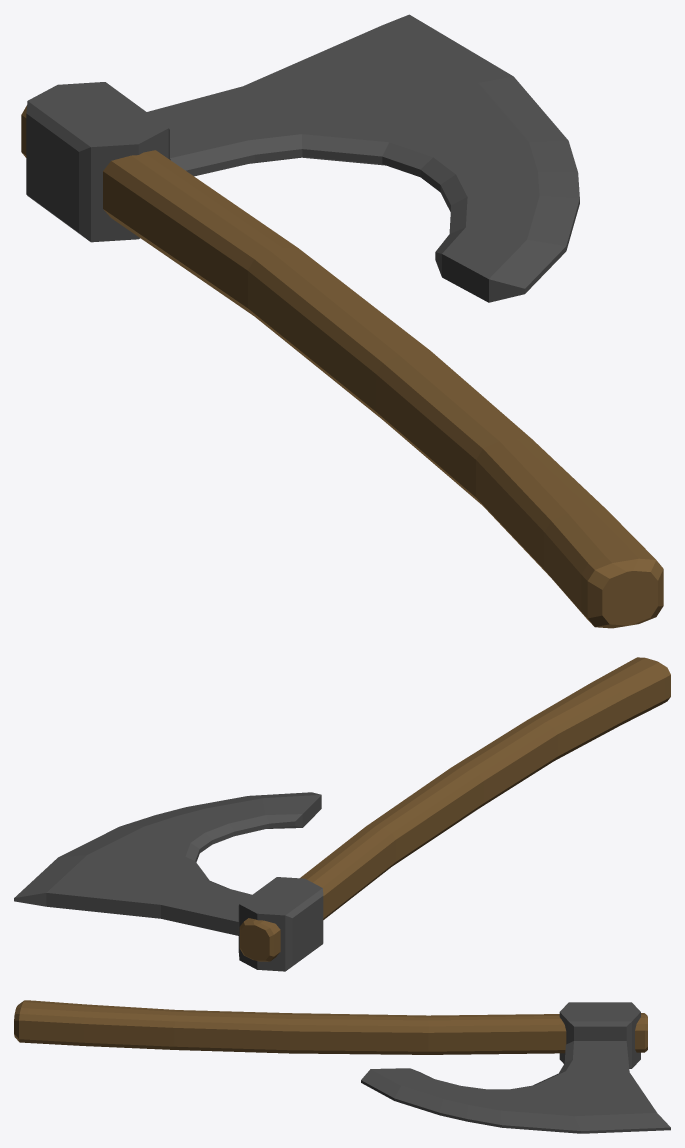
The model's file is Axe.fbx.
3 renders of one model, top to bottom at view 1: azimuth 30°, elevation 25°; view 2: azimuth 150°, elevation 25°; view 3: azimuth 270°, elevation 25°, orthographic. The views are drawn at different scales.
Visible parts, largest first — view 1: Cube; view 2: Cube; view 3: Cube.
Boxes of the visible parts, box(x1,y1,x2,y2) form: Cube: box(21, 14, 663, 628); Cube: box(14, 657, 670, 971); Cube: box(14, 1000, 670, 1133).
Size of the model in its own units: 160 by 30.11 by 377.
